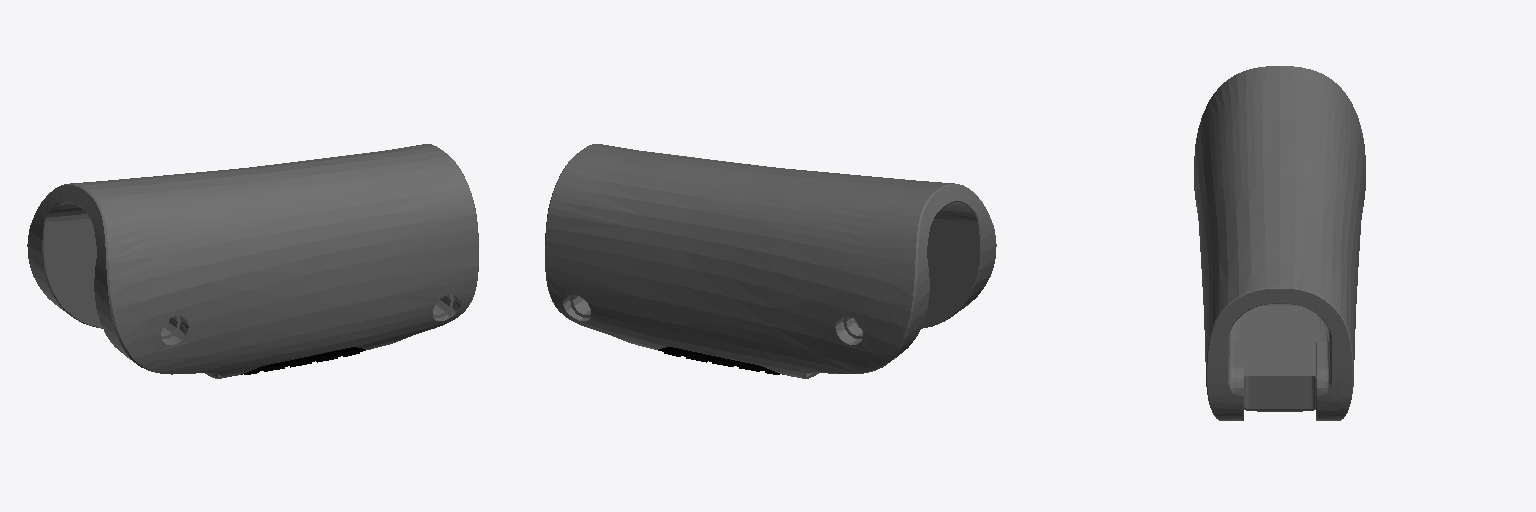
File: L_index_proximal_link.obj
The picture shows the model from 3 angles: view 1: azimuth 30°, elevation 25°; view 2: azimuth 150°, elevation 25°; view 3: azimuth 270°, elevation 25°; orthographic projection.
Visible parts, largest first — view 1: L_index_proximal_link; view 2: L_index_proximal_link; view 3: L_index_proximal_link.
Boxes of the visible parts, box(x1,y1,x2,y2) form: L_index_proximal_link: box(27, 144, 478, 378); L_index_proximal_link: box(545, 144, 996, 378); L_index_proximal_link: box(1194, 66, 1365, 420).
Bounding box in the file's own units: 0.0425 × 0.0233 × 0.0169.